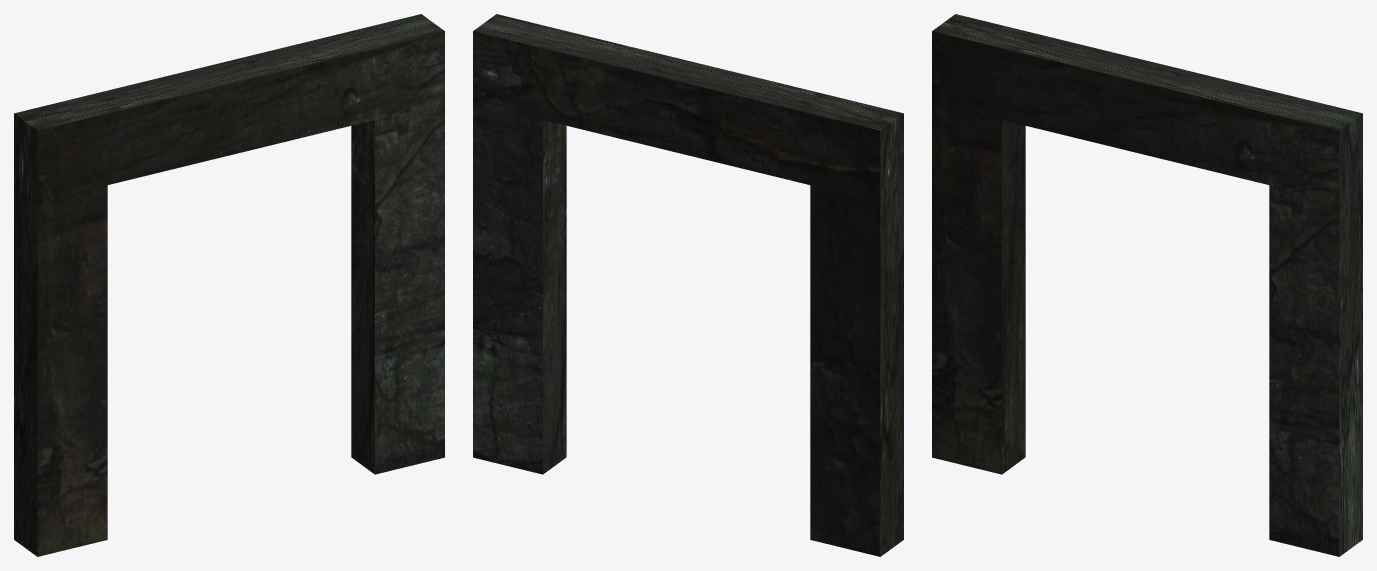
The model's file is door.glb.
3 renders of one model, left to right at view 1: azimuth 30°, elevation 25°; view 2: azimuth 150°, elevation 25°; view 3: azimuth 330°, elevation 25°, orthographic.
Parts seen in each view (by area): view 1: Cube; view 2: Cube; view 3: Cube.
Part boxes in pixels (box(x1,y1,x2,y2)): Cube: box(14, 14, 444, 556); Cube: box(473, 14, 903, 556); Cube: box(932, 14, 1362, 556).
Bounding box in the file's own units: 4 × 4 × 0.4.
Materials: 1 (1 with a texture image).
